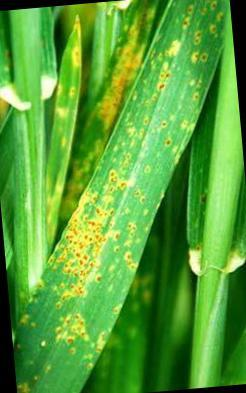Wheat: (71, 10, 222, 191)
